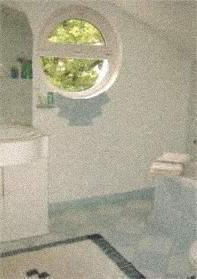Lavamanos: (0, 110, 53, 169)
